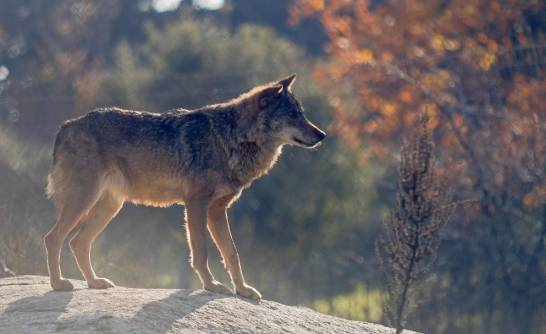Lobo: (36, 73, 334, 306)
